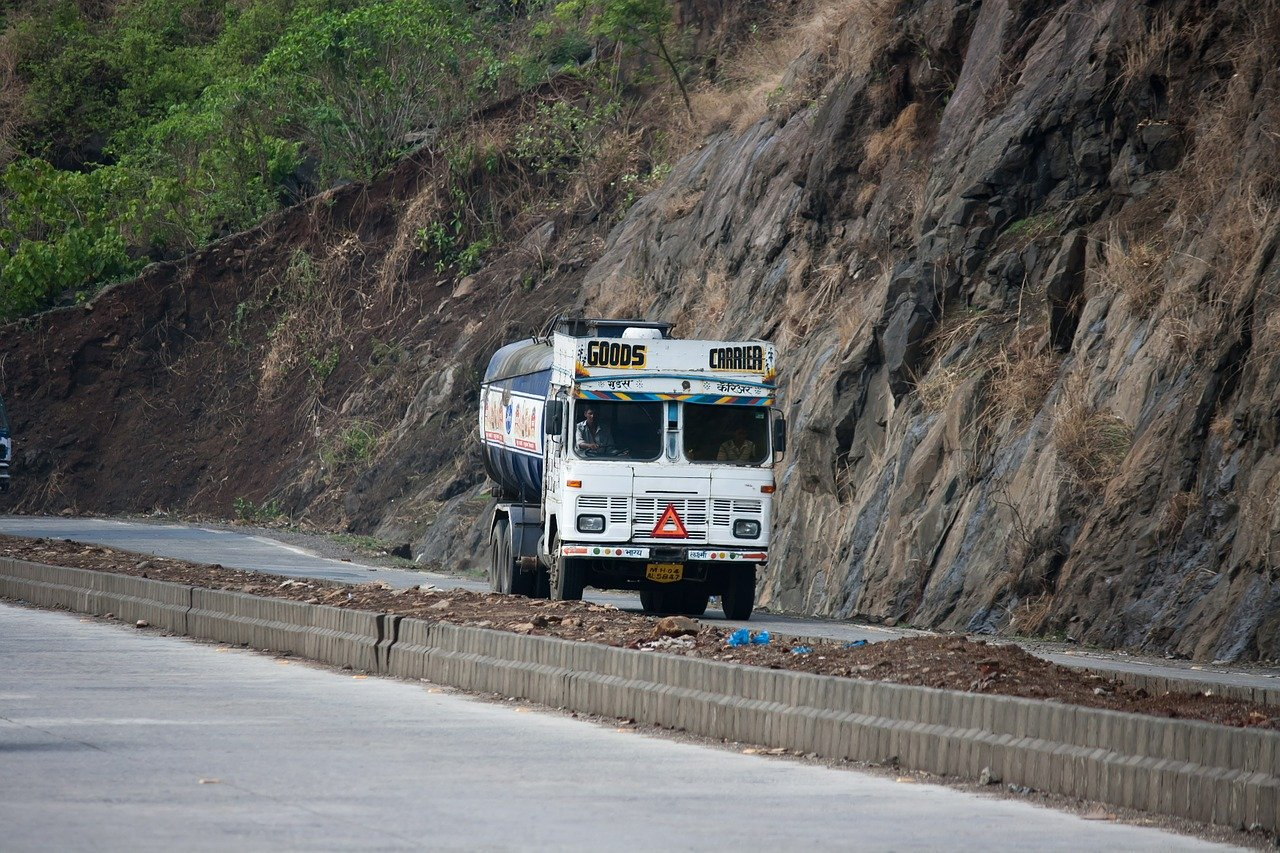truck: (488, 322, 783, 625)
